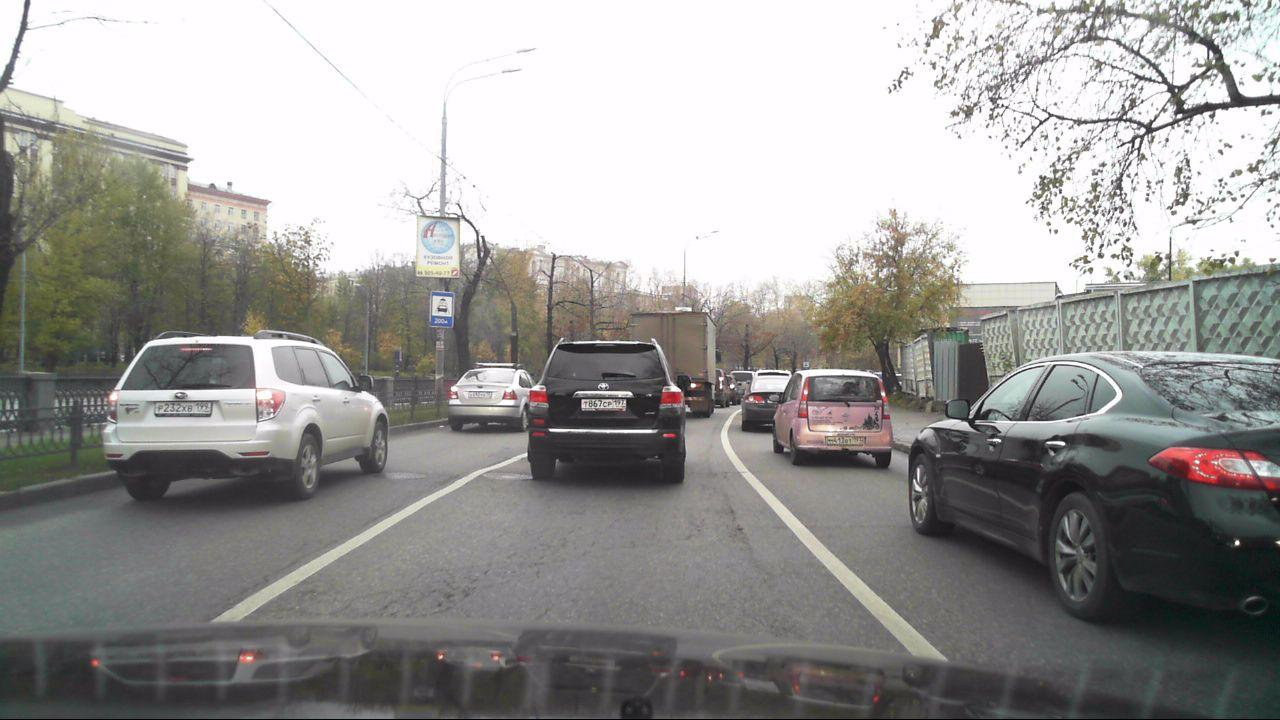7_5: (429, 291, 455, 326)
